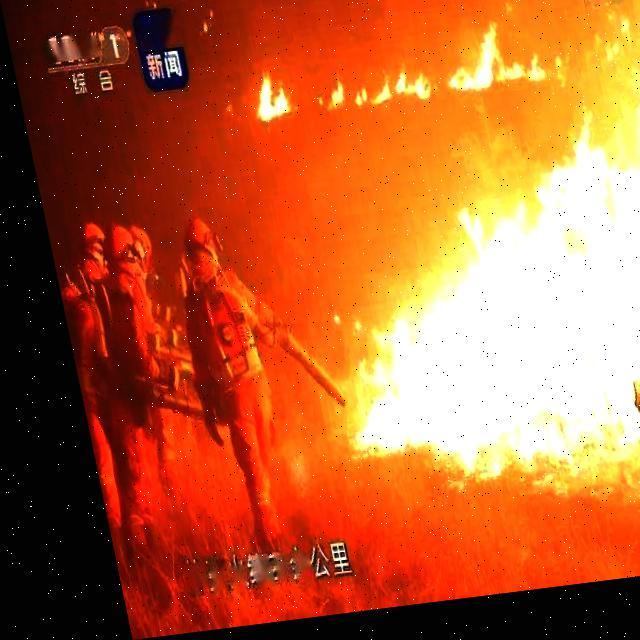Fire: (293, 135, 639, 547), (234, 34, 566, 126)
